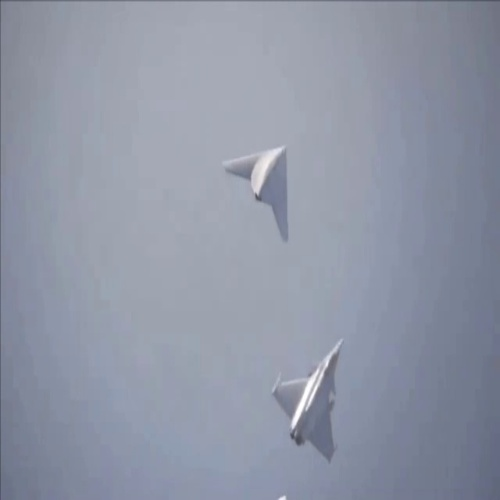uav: (220, 140, 293, 241)
